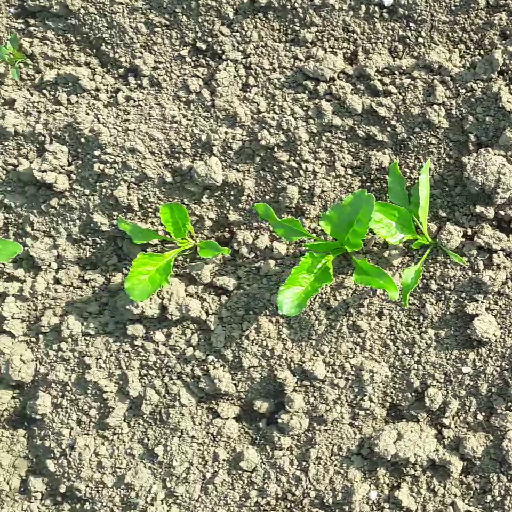sugarbeet: (250, 189, 401, 319), (357, 157, 469, 310), (112, 201, 235, 302)
weed: (1, 31, 29, 84)
